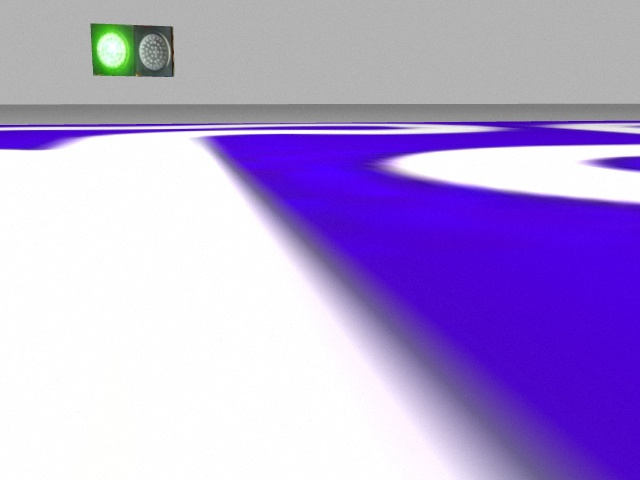green: (91, 23, 137, 75)
